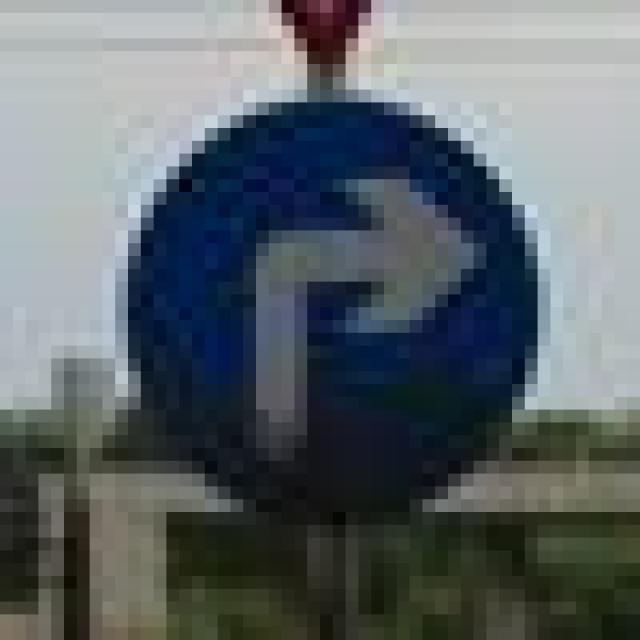railway_crossing: (115, 90, 525, 512)
